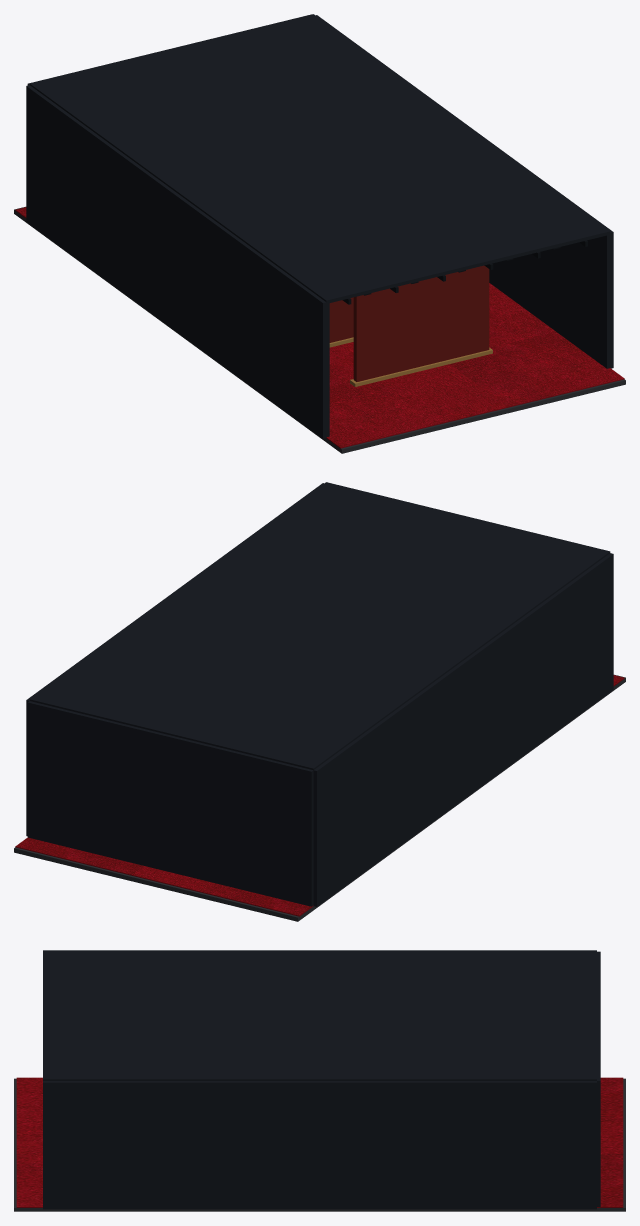
File: plan-gallery.glb
3 renders of one model, top to bottom at view 1: azimuth 30°, elevation 25°; view 2: azimuth 150°, elevation 25°; view 3: azimuth 270°, elevation 25°, orthographic. The views are drawn at different scales.
Parts seen in each view (by area): view 1: Ceiling.001, Left wall, Red carpet - full gallery width, Empty display board 0, Right wall, Wide floor, Empty display board 1, Board base 0; view 2: Ceiling.001, Left wall, Rear wall, Red carpet - full gallery width, Wide floor, Right wall; view 3: Ceiling.001, Right wall, Red carpet - full gallery width, Wide floor, Rear wall.
Boxes of the visible parts, bbox=[...] form: Ceiling.001: bbox=[29, 14, 610, 303]; Left wall: bbox=[26, 85, 329, 438]; Red carpet - full gallery width: bbox=[15, 207, 624, 448]; Empty display board 0: bbox=[353, 265, 489, 381]; Right wall: bbox=[316, 15, 613, 368]; Wide floor: bbox=[14, 206, 625, 453]; Empty display board 1: bbox=[329, 297, 353, 342]; Board base 0: bbox=[350, 347, 492, 386]; Ceiling.001: bbox=[29, 482, 610, 770]; Left wall: bbox=[313, 553, 613, 906]; Rear wall: bbox=[27, 701, 313, 906]; Red carpet - full gallery width: bbox=[15, 675, 624, 916]; Wide floor: bbox=[14, 674, 625, 921]; Right wall: bbox=[26, 483, 323, 836]; Ceiling.001: bbox=[43, 950, 596, 1080]; Right wall: bbox=[43, 1081, 596, 1209]; Red carpet - full gallery width: bbox=[16, 1077, 623, 1207]; Wide floor: bbox=[14, 1078, 625, 1211]; Rear wall: bbox=[597, 951, 600, 1207].
Bounding box in the file's own units: 21.5 × 10.02 × 42.
7 materials, 1 textured.
